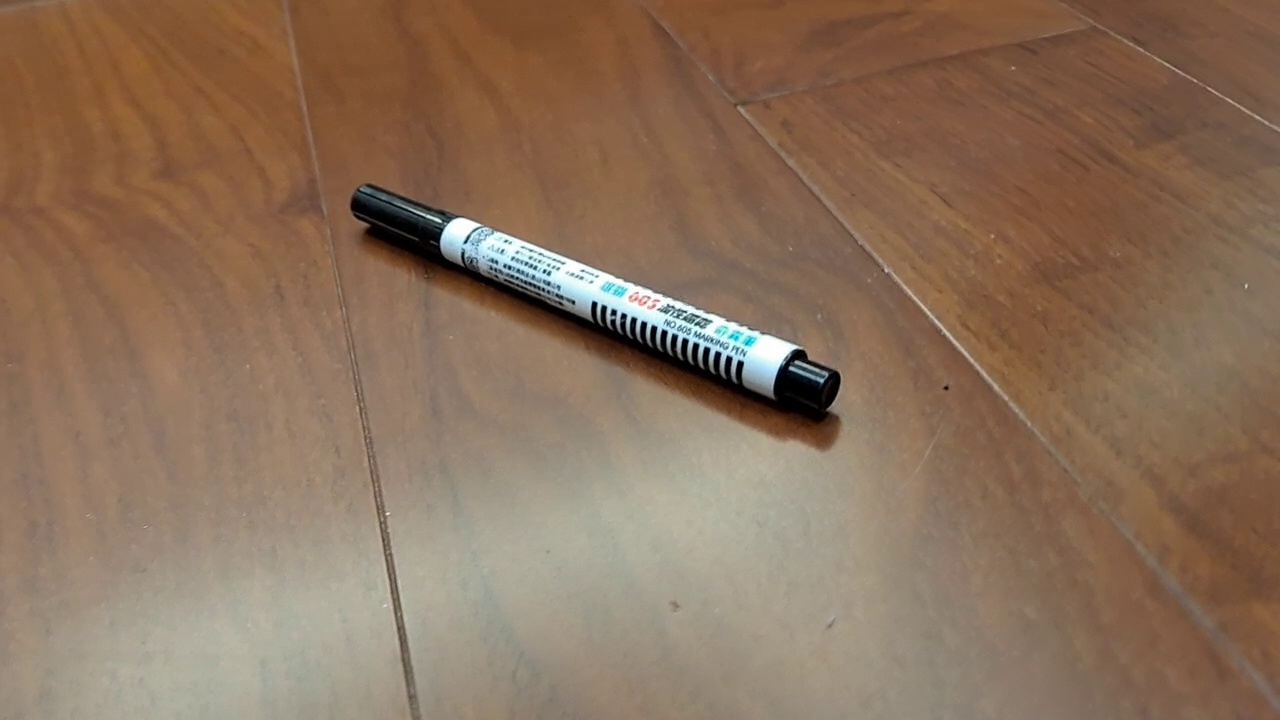pen: (349, 182, 842, 412)
